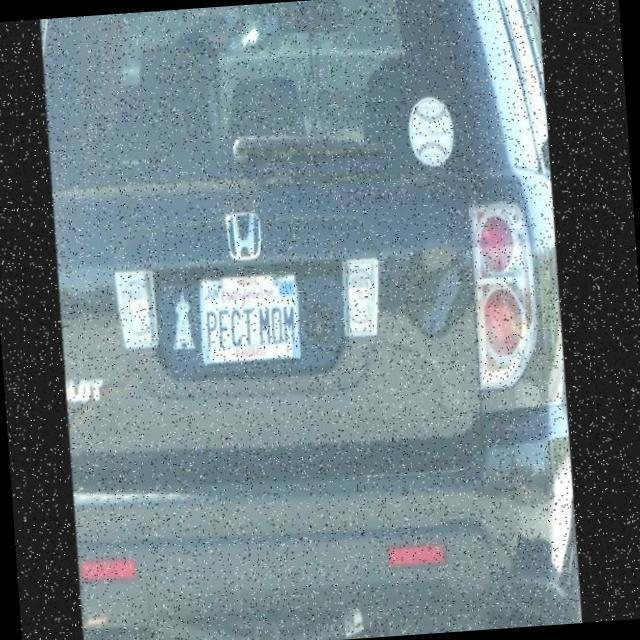License Plate: (188, 256, 316, 392)
